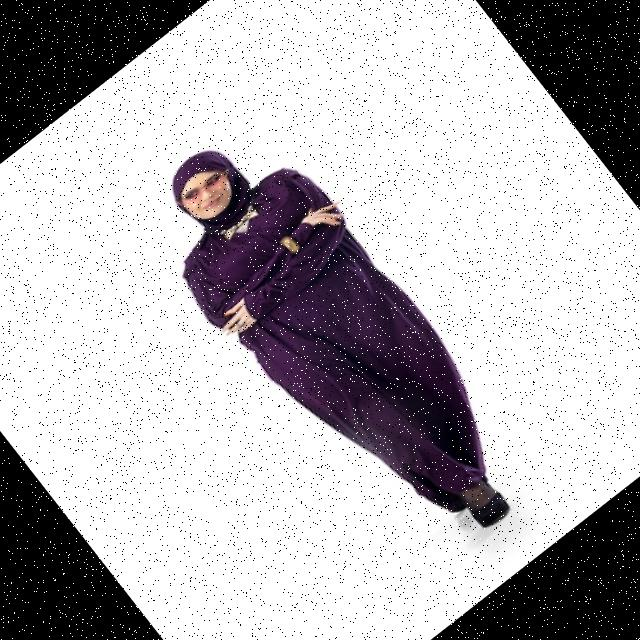Person: (119, 103, 552, 588)
